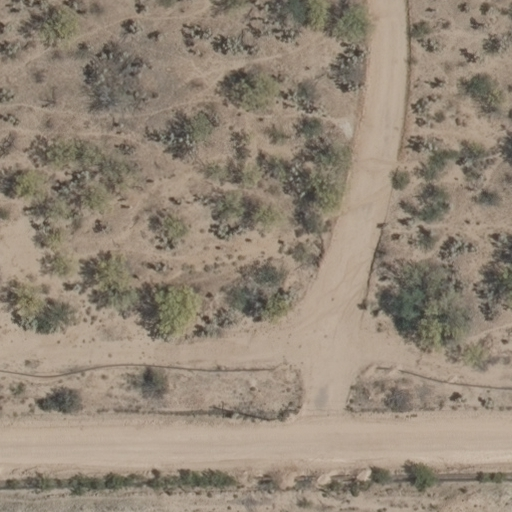DT: (260, 409, 287, 427)
